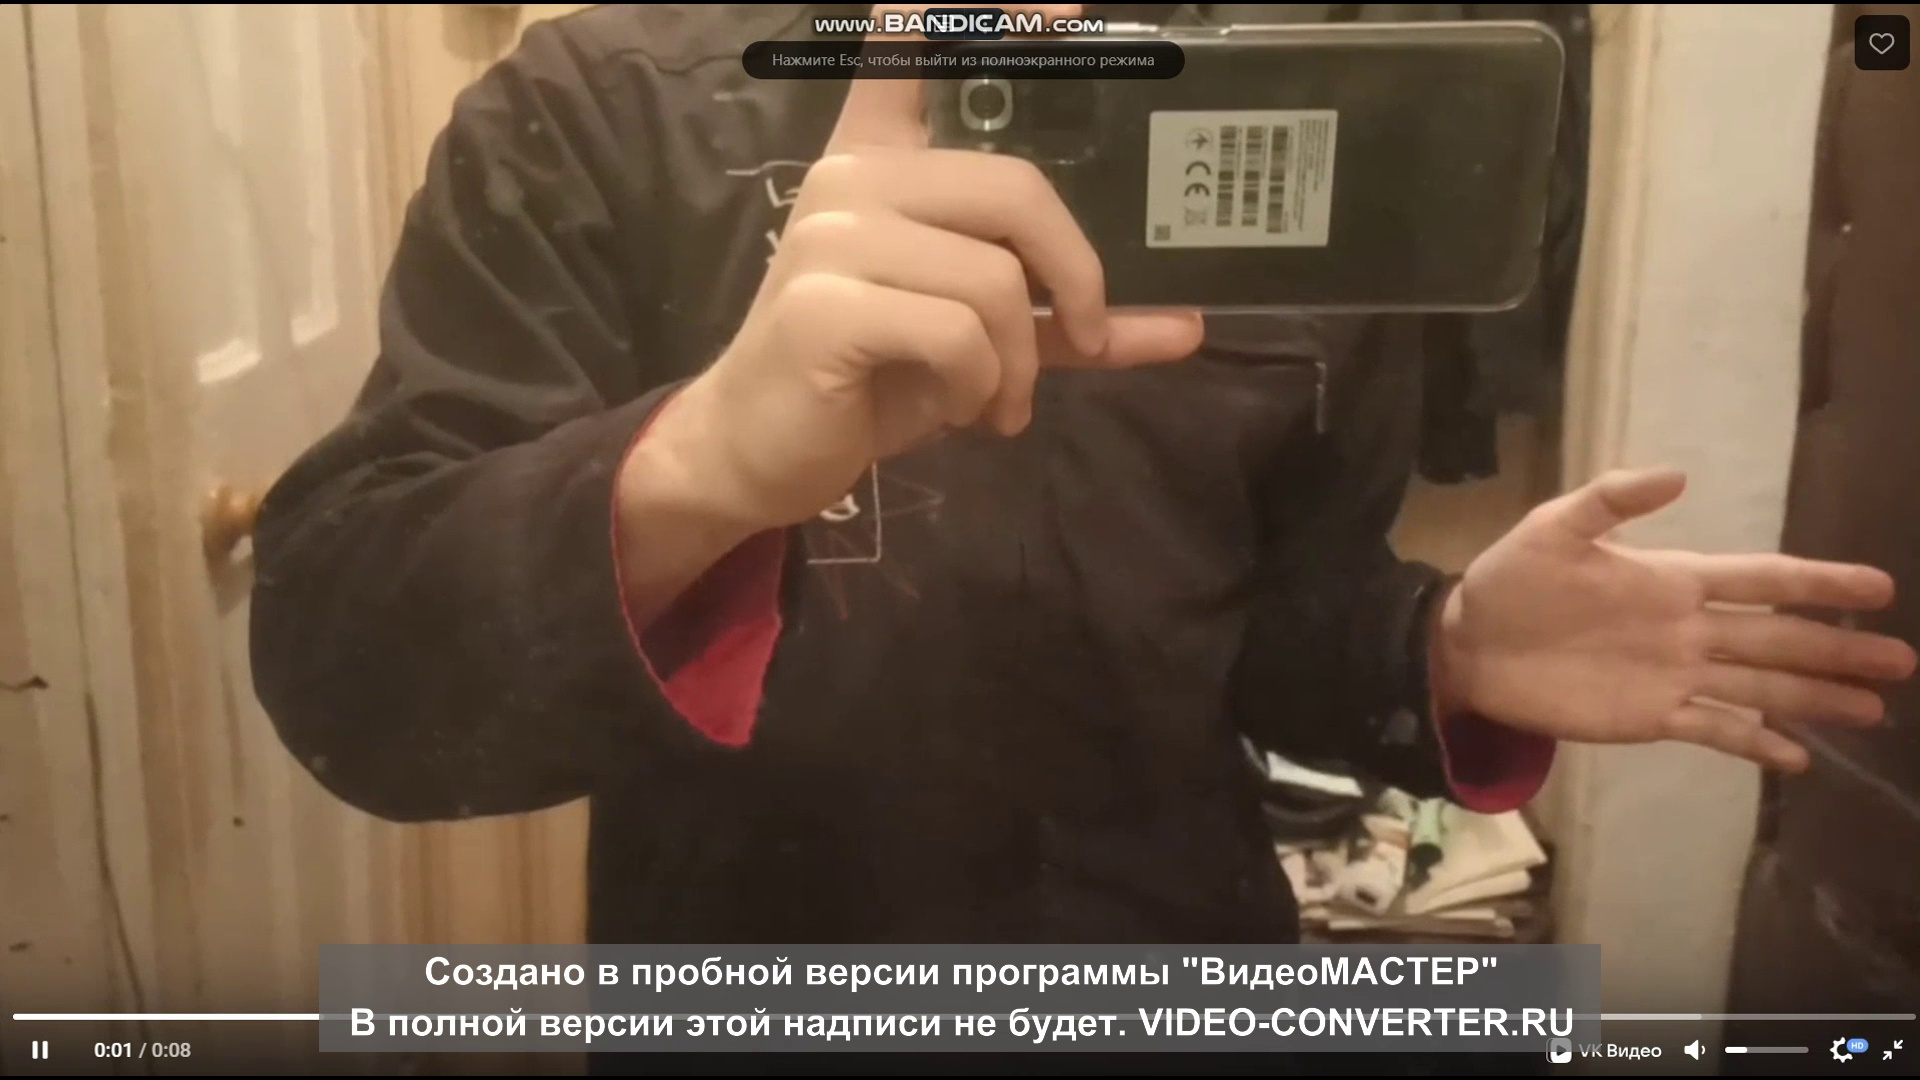Ладонь: (1461, 462, 1911, 777)
